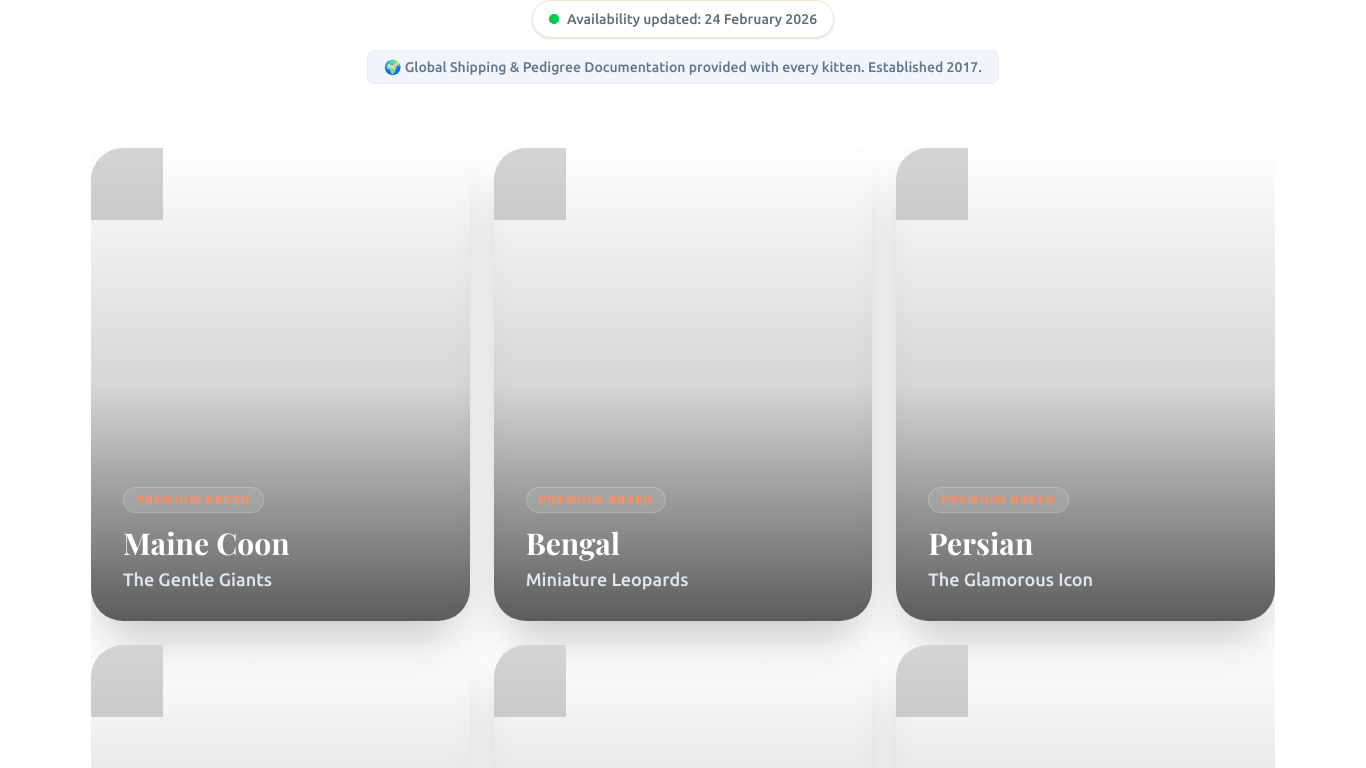
Test case: BreedShowcase › opens modal when a breed card is clicked
(page scrolled)
# Click the card
Step 1. Click the button with aria-label "View details for Maine Coon" → [280, 385], box [91,148,470,621]
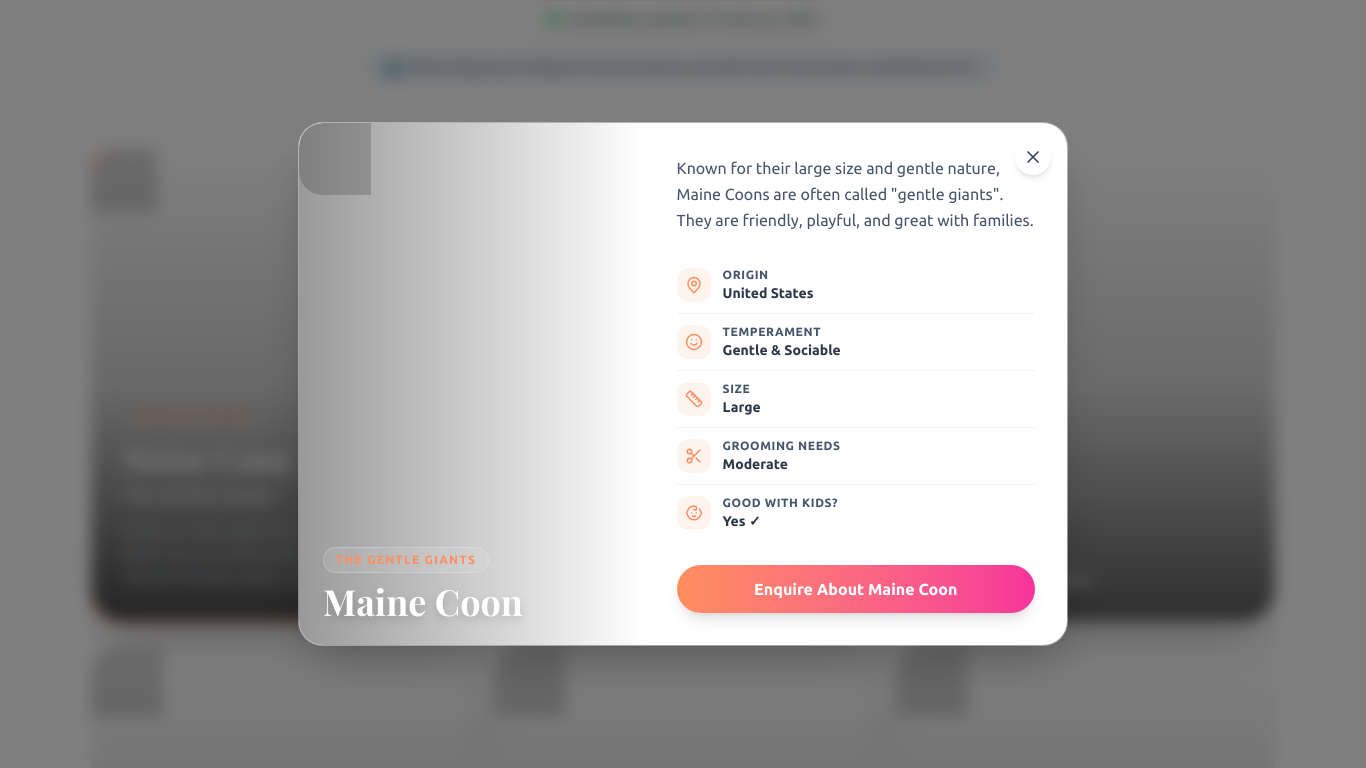
Expected: the text "Origin" is shown, [723,268,769,281]
Expected: the text "United States" is shown, [723,283,814,303]
